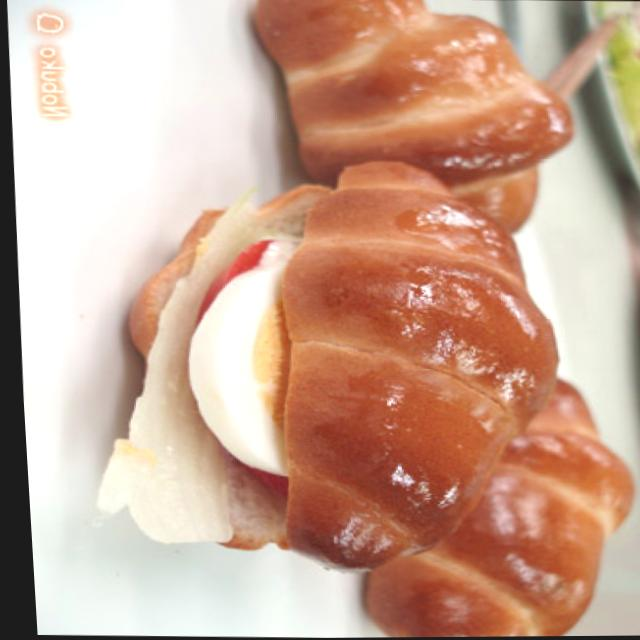面包点心: (95, 0, 640, 639)
